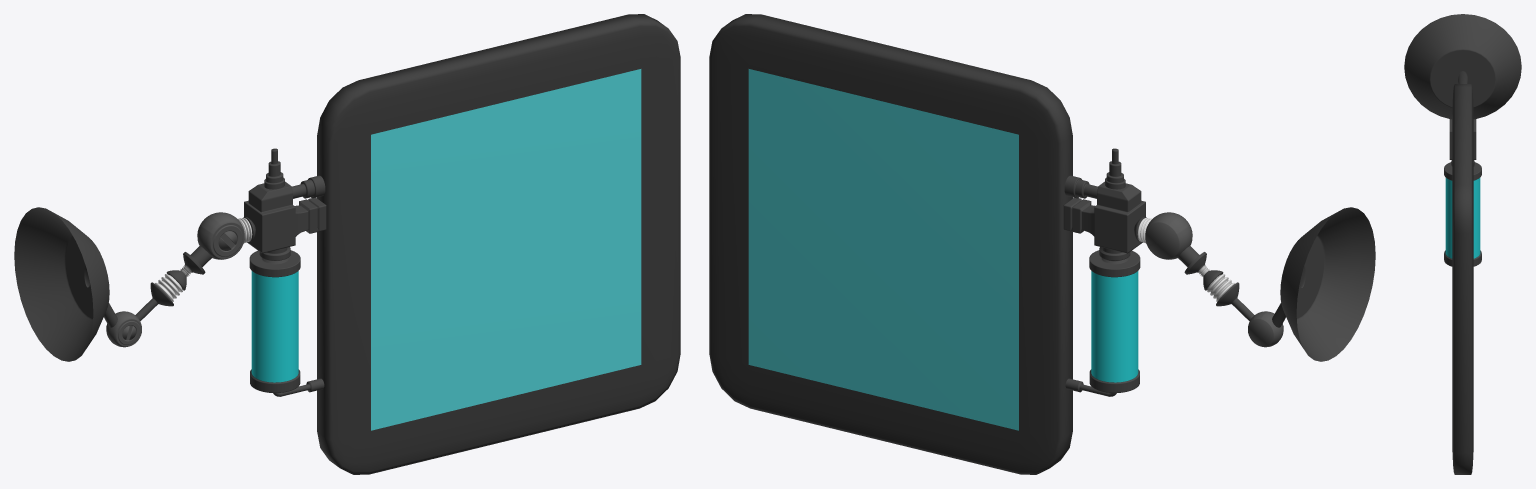
Rendered from CartelloV3.fbx.
The picture shows the model from 3 angles, left to right: view 1: azimuth 30°, elevation 25°; view 2: azimuth 150°, elevation 25°; view 3: azimuth 270°, elevation 25°; orthographic projection. The views are drawn at different scales.
Parts seen in each view (by area): view 1: CartelloV3; view 2: CartelloV3; view 3: CartelloV3.
Boxes of the visible parts, x1,y1,x2,y2 form: CartelloV3: (14, 14, 680, 474); CartelloV3: (709, 14, 1375, 474); CartelloV3: (1404, 14, 1521, 474).
Bounding box in the file's own units: 315 × 187 × 69.55.
